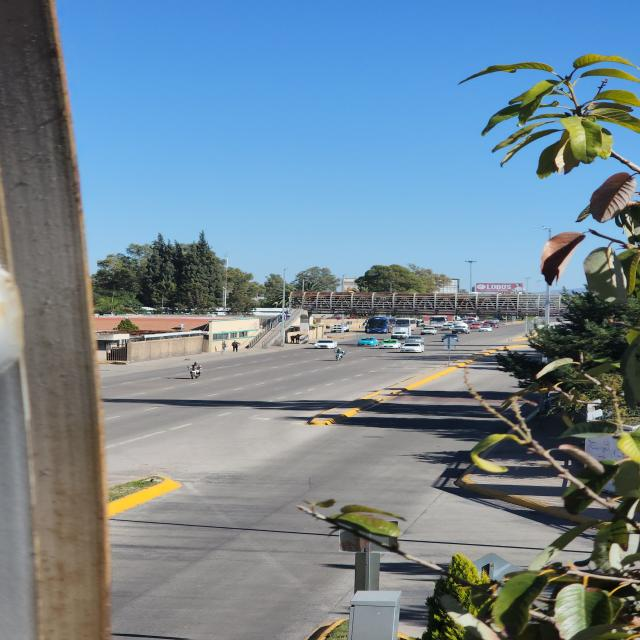Auto: (450, 318, 469, 332), (313, 339, 335, 350), (358, 338, 381, 348), (330, 325, 348, 334)
Autobus: (365, 314, 396, 333)
